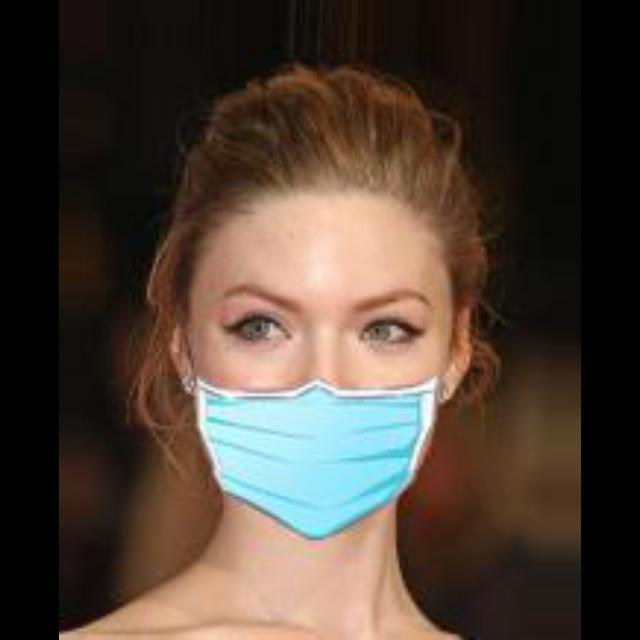suspicion: (178, 109, 460, 528)
